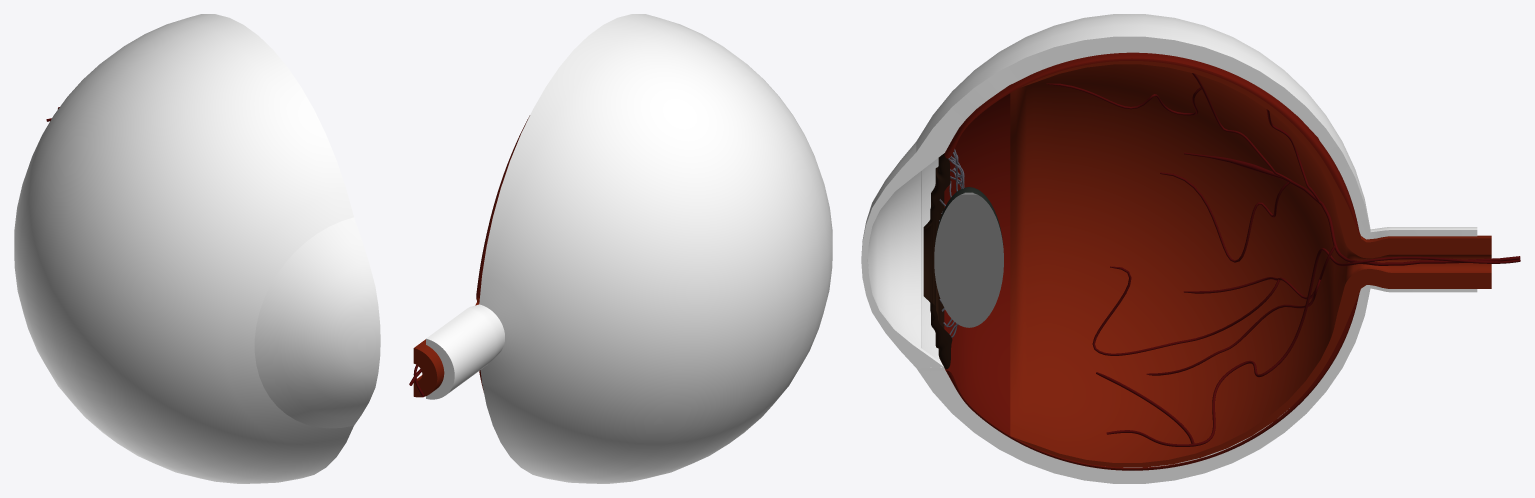
File: eye.obj
3 renders of one model, left to right at view 1: azimuth 30°, elevation 25°; view 2: azimuth 150°, elevation 25°; view 3: azimuth 270°, elevation 25°, orthographic. The views are drawn at different scales.
Visible parts, largest first — view 1: Sphere004, Sphere005; view 2: Sphere004, Sphere003, Sphere; view 3: Sphere003, Sphere004, Sphere, Sphere005, Sphere006, BezierCurve009, Sphere002, BezierCurve.
Boxes of the visible parts, x1=… form: Sphere004: x1=14, y1=14, x2=353, y2=483; Sphere005: x1=254, y1=217, x2=380, y2=428; Sphere004: x1=426, y1=14, x2=832, y2=483; Sphere003: x1=413, y1=297, x2=479, y2=397; Sphere: x1=476, y1=115, x2=529, y2=392; Sphere003: x1=1010, y1=61, x2=1491, y2=467; Sphere004: x1=916, y1=14, x2=1477, y2=483; Sphere: x1=944, y1=52, x2=1359, y2=470; Sphere005: x1=861, y1=142, x2=944, y2=368; Sphere006: x1=934, y1=192, x2=1003, y2=327; BezierCurve009: x1=1046, y1=73, x2=1520, y2=375; Sphere002: x1=923, y1=153, x2=952, y2=369; BezierCurve: x1=1096, y1=248, x2=1520, y2=446.
Size of the model in its own units: 1.53 by 2.88 by 3.85.
